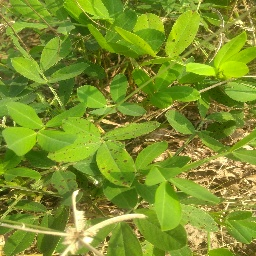GroundNut_Leaf: (164, 8, 204, 58), (98, 140, 138, 189), (152, 181, 184, 232), (6, 49, 43, 84), (7, 99, 46, 131), (47, 140, 96, 164), (165, 106, 197, 141), (103, 118, 159, 138), (75, 80, 108, 109), (60, 113, 98, 138), (223, 78, 256, 102), (217, 60, 252, 77)
